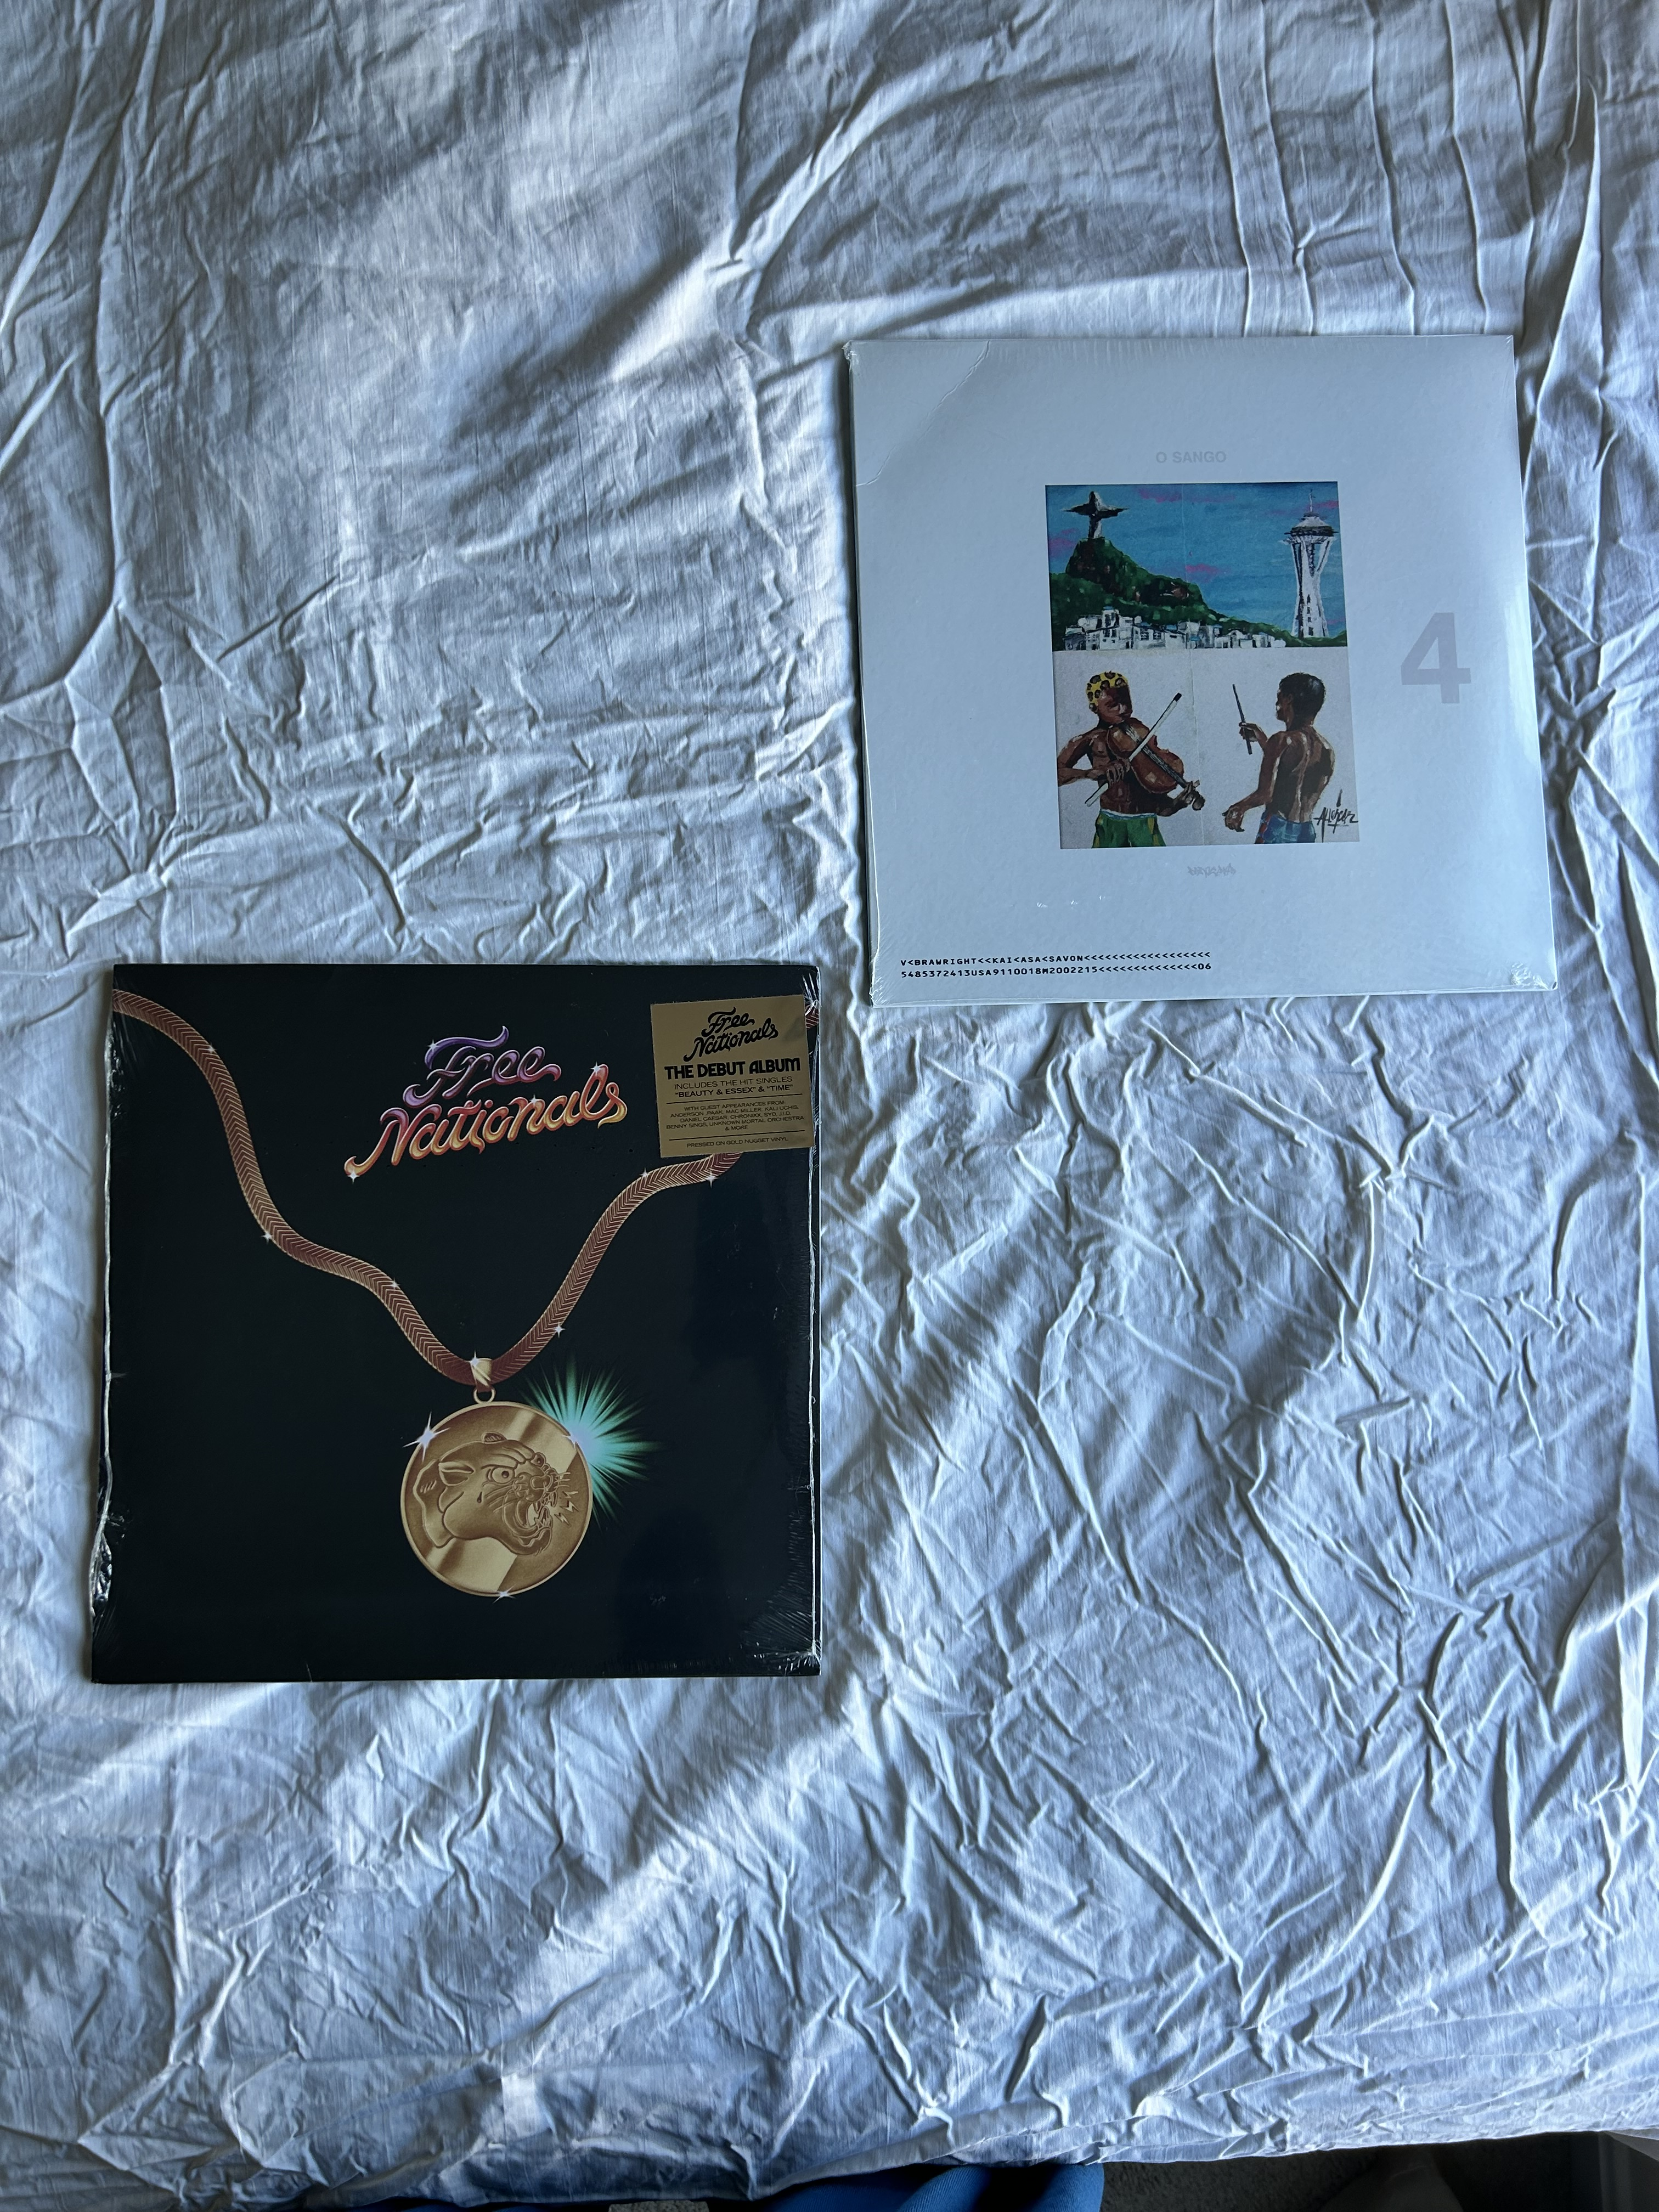free nationals_free nationals: (92, 961, 819, 1674)
sango_da rocinha 4: (847, 333, 1563, 1005)
